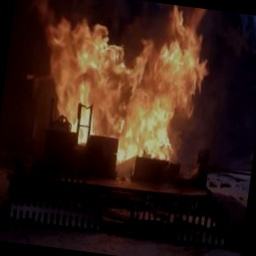fire: (24, 0, 217, 192)
